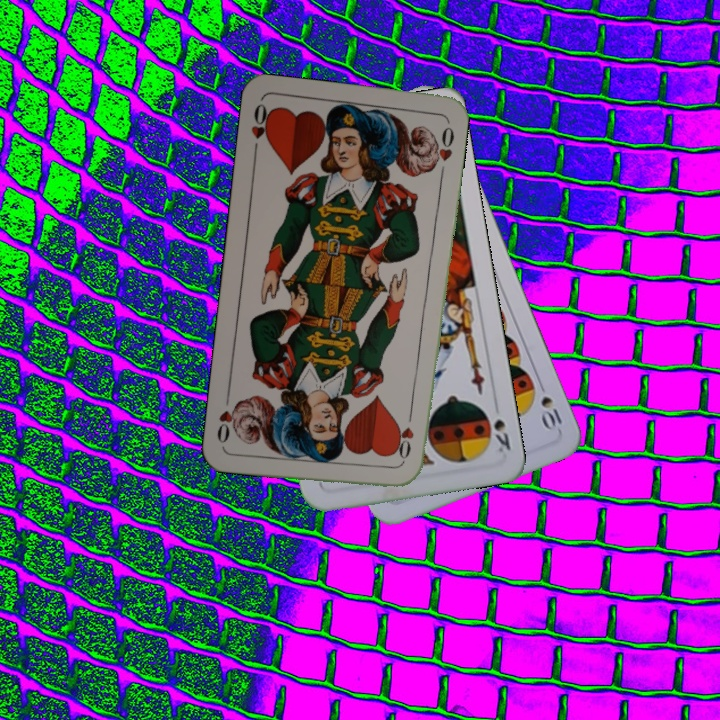HO: (247, 99, 274, 157), (395, 407, 417, 466)
S10: (534, 376, 567, 434)
SK: (490, 415, 513, 455)
